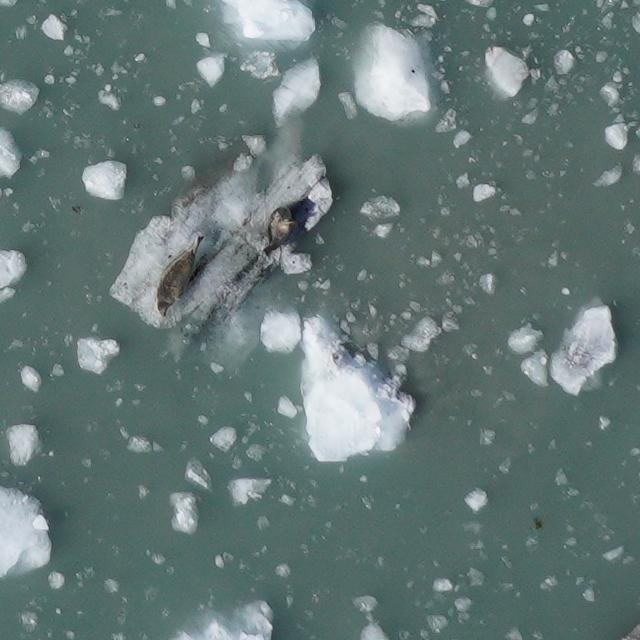seal: (146, 226, 208, 321), (258, 203, 299, 263)
